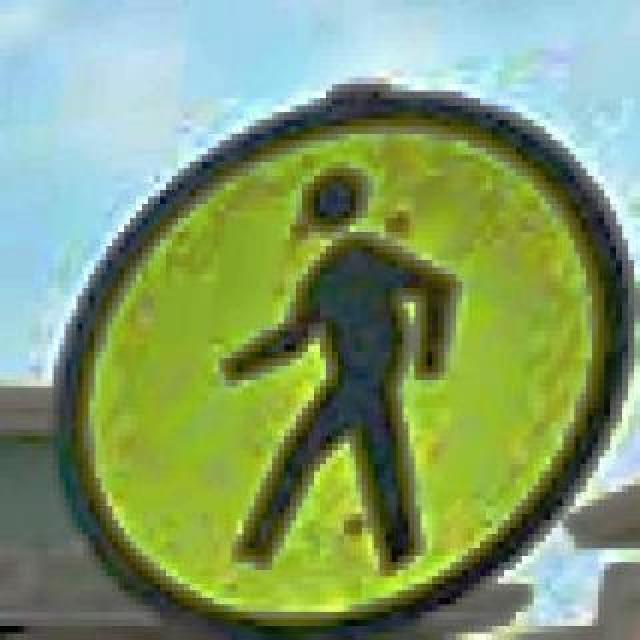pedestrian crossing: (46, 92, 634, 634)
